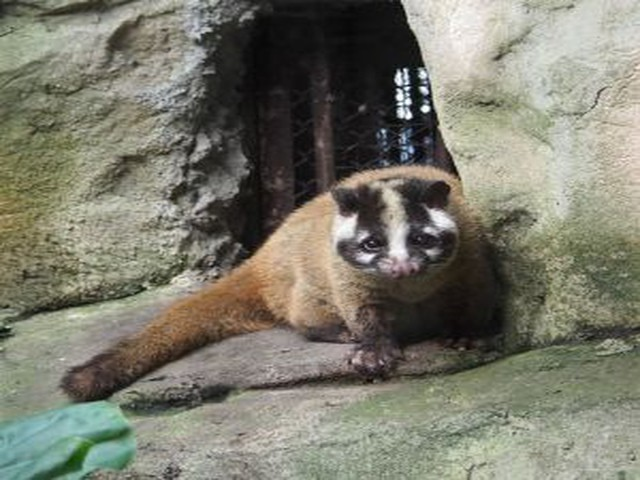civet: (58, 164, 461, 405)
